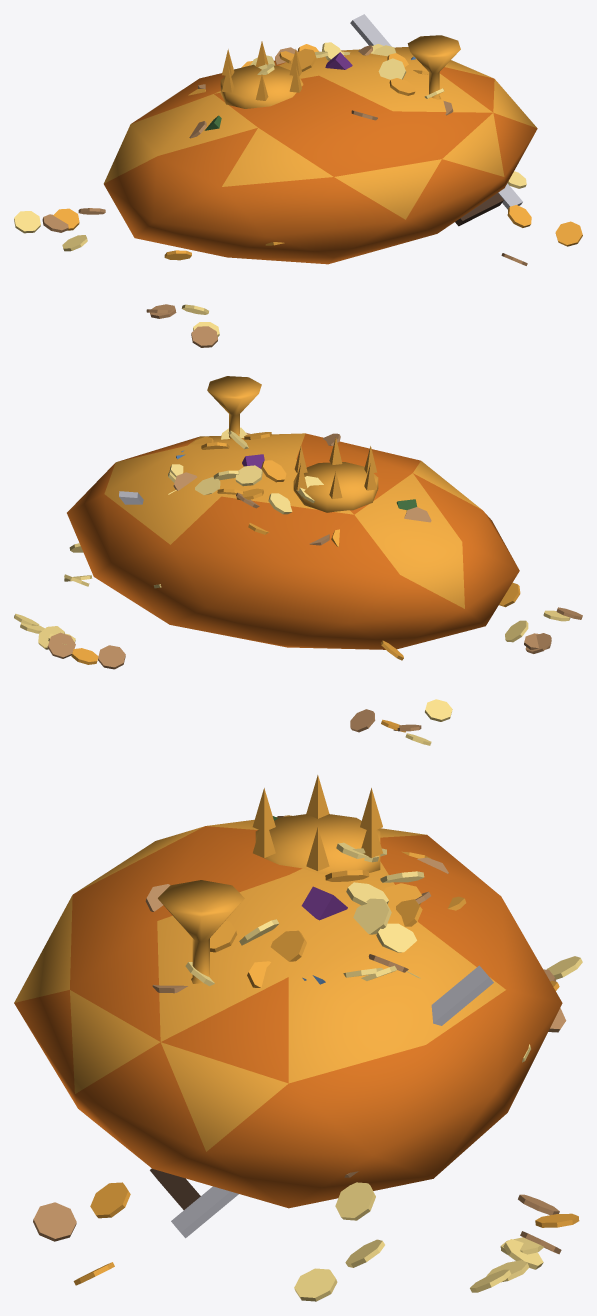
Rendered from gold_heap.glb.
3 renders of one model, top to bottom at view 1: azimuth 30°, elevation 25°; view 2: azimuth 150°, elevation 25°; view 3: azimuth 270°, elevation 25°, orthographic. The views are drawn at different scales.
Parts seen in each view (by area): view 1: gold_heap; view 2: gold_heap; view 3: gold_heap.
Part boxes in pixels (x1,y1,x2,y2): gold_heap: [14, 14, 582, 347]; gold_heap: [14, 376, 582, 745]; gold_heap: [14, 775, 582, 1301].
Bounding box in the file's own units: 1.09 × 0.4706 × 0.7808.
